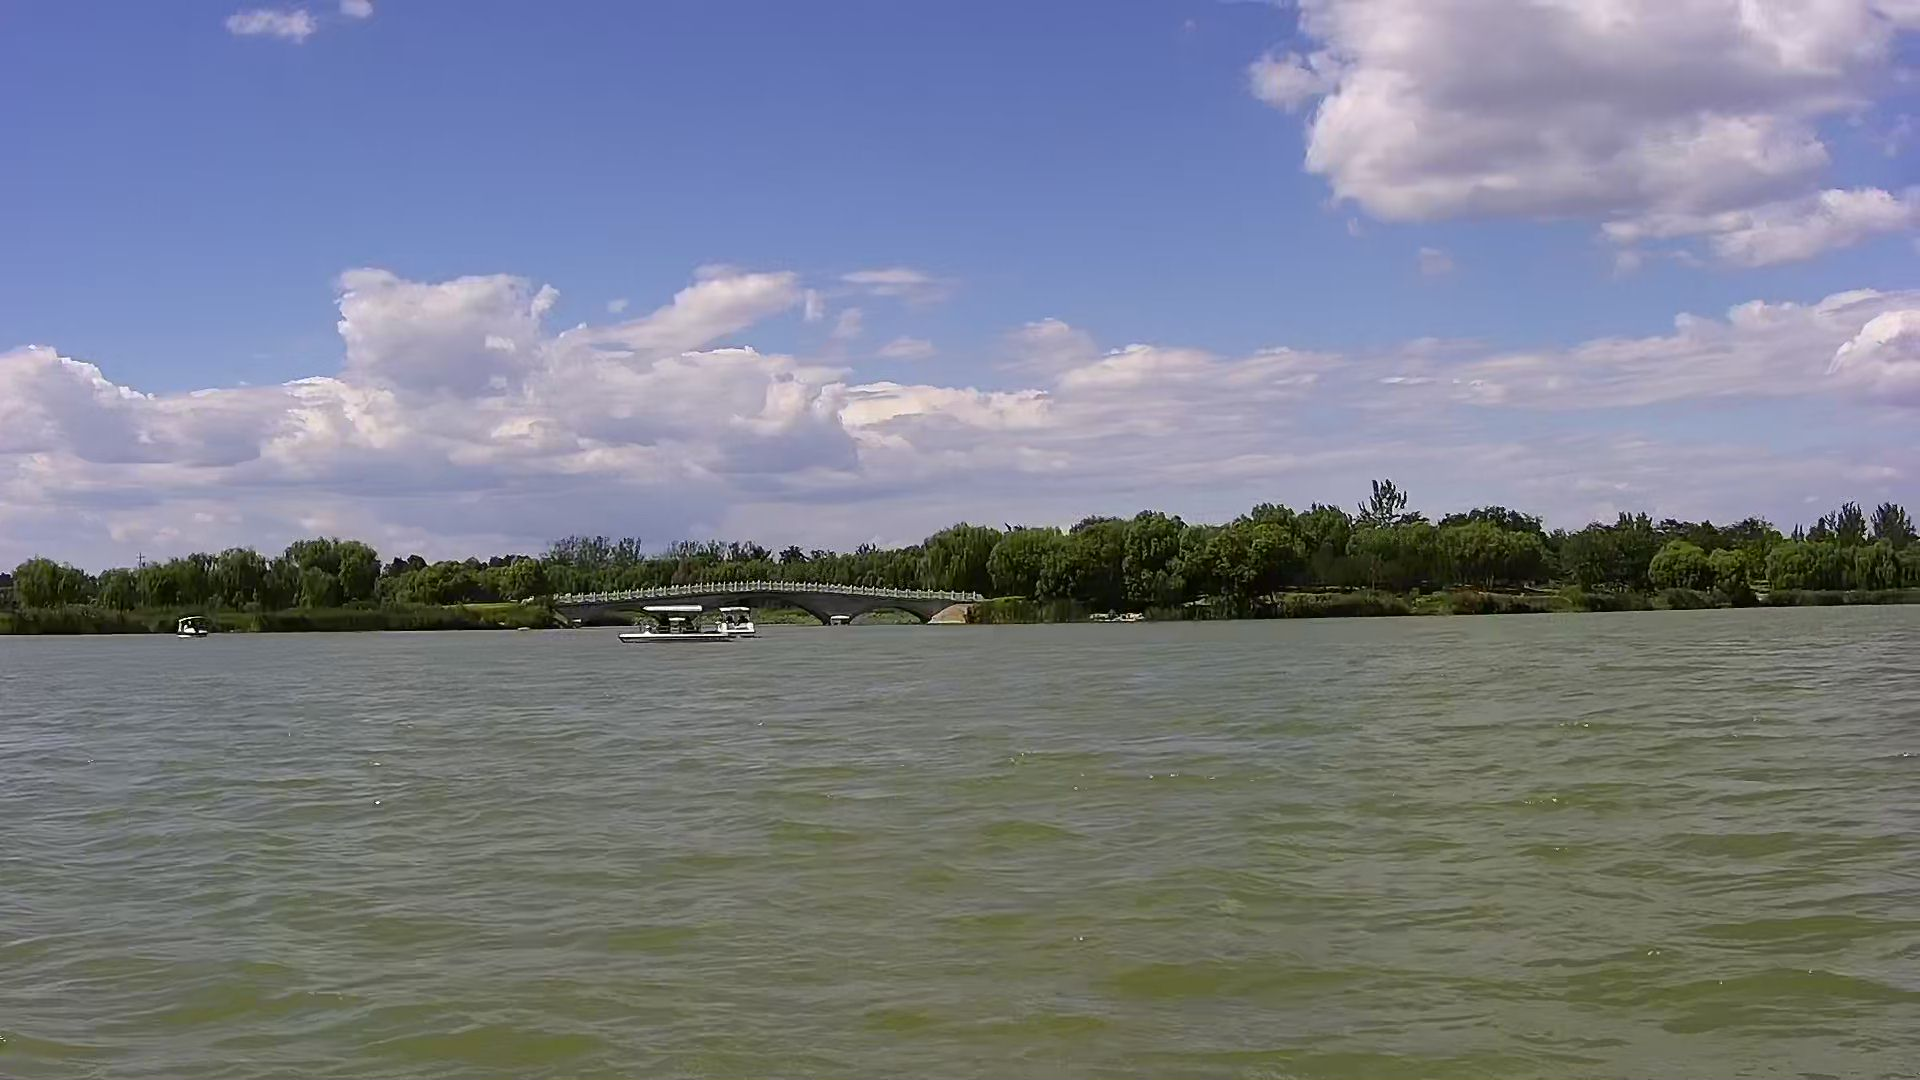boat: (617, 597, 721, 646), (165, 604, 215, 644), (719, 607, 765, 636)
bridge: (549, 578, 985, 626)
